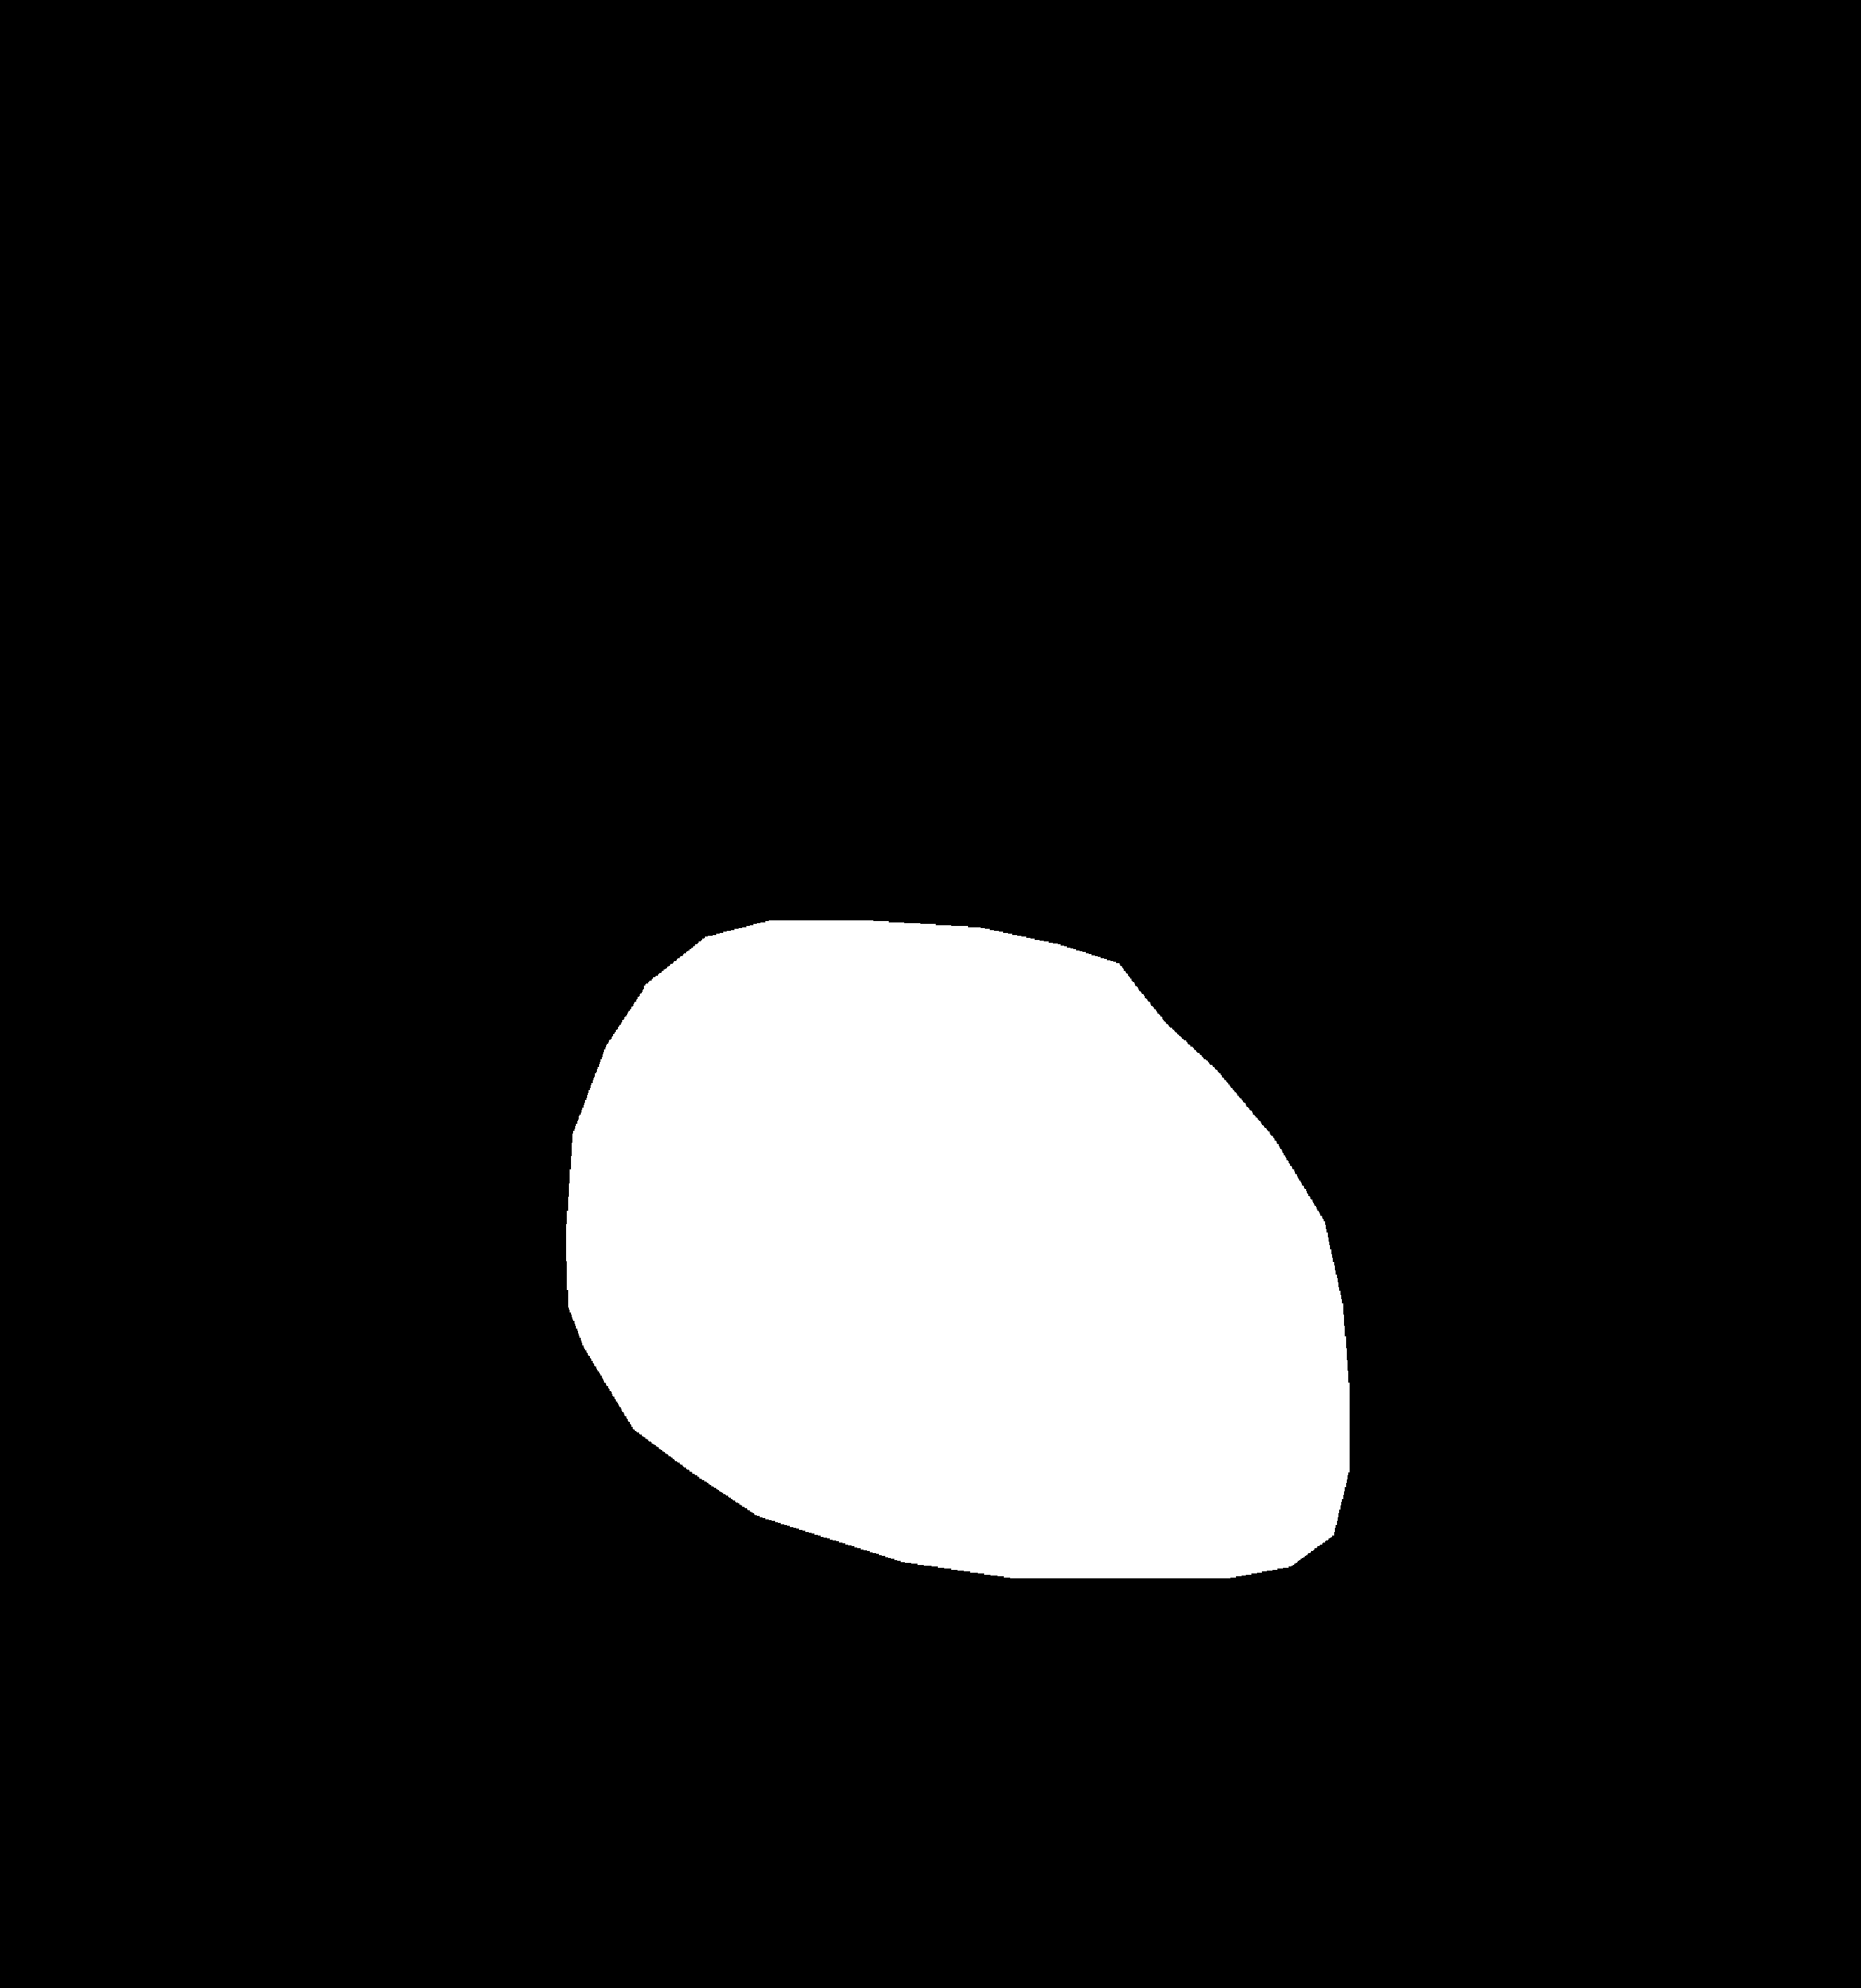heart: (565, 963, 1347, 1705)
left_lung: (215, 227, 808, 1630)
right_lung: (1021, 215, 1690, 1727)
